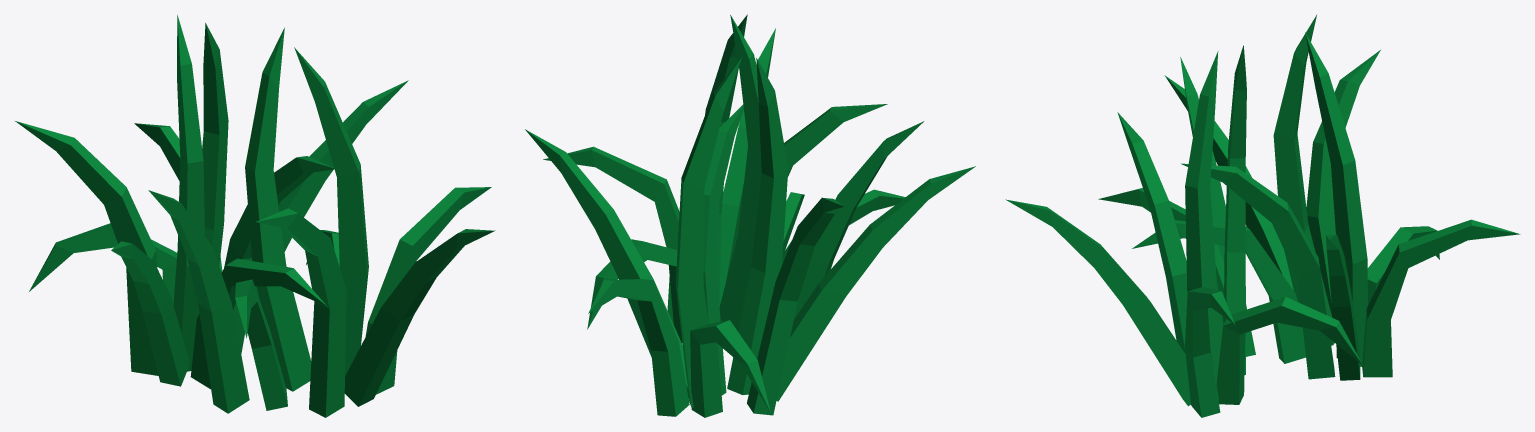
The model's file is grass.glb.
3 renders of one model, left to right at view 1: azimuth 30°, elevation 25°; view 2: azimuth 150°, elevation 25°; view 3: azimuth 270°, elevation 25°, orthographic. The views are drawn at different scales.
Parts seen in each view (by area): view 1: Cube.013; view 2: Cube.013; view 3: Cube.013.
Part boxes in pixels (x1,y1,x2,y2): Cube.013: (15,14,495,417); Cube.013: (525,14,975,417); Cube.013: (1005,15,1520,417).
Bounding box in the file's own units: 0.2005 × 0.1686 × 0.2316.
